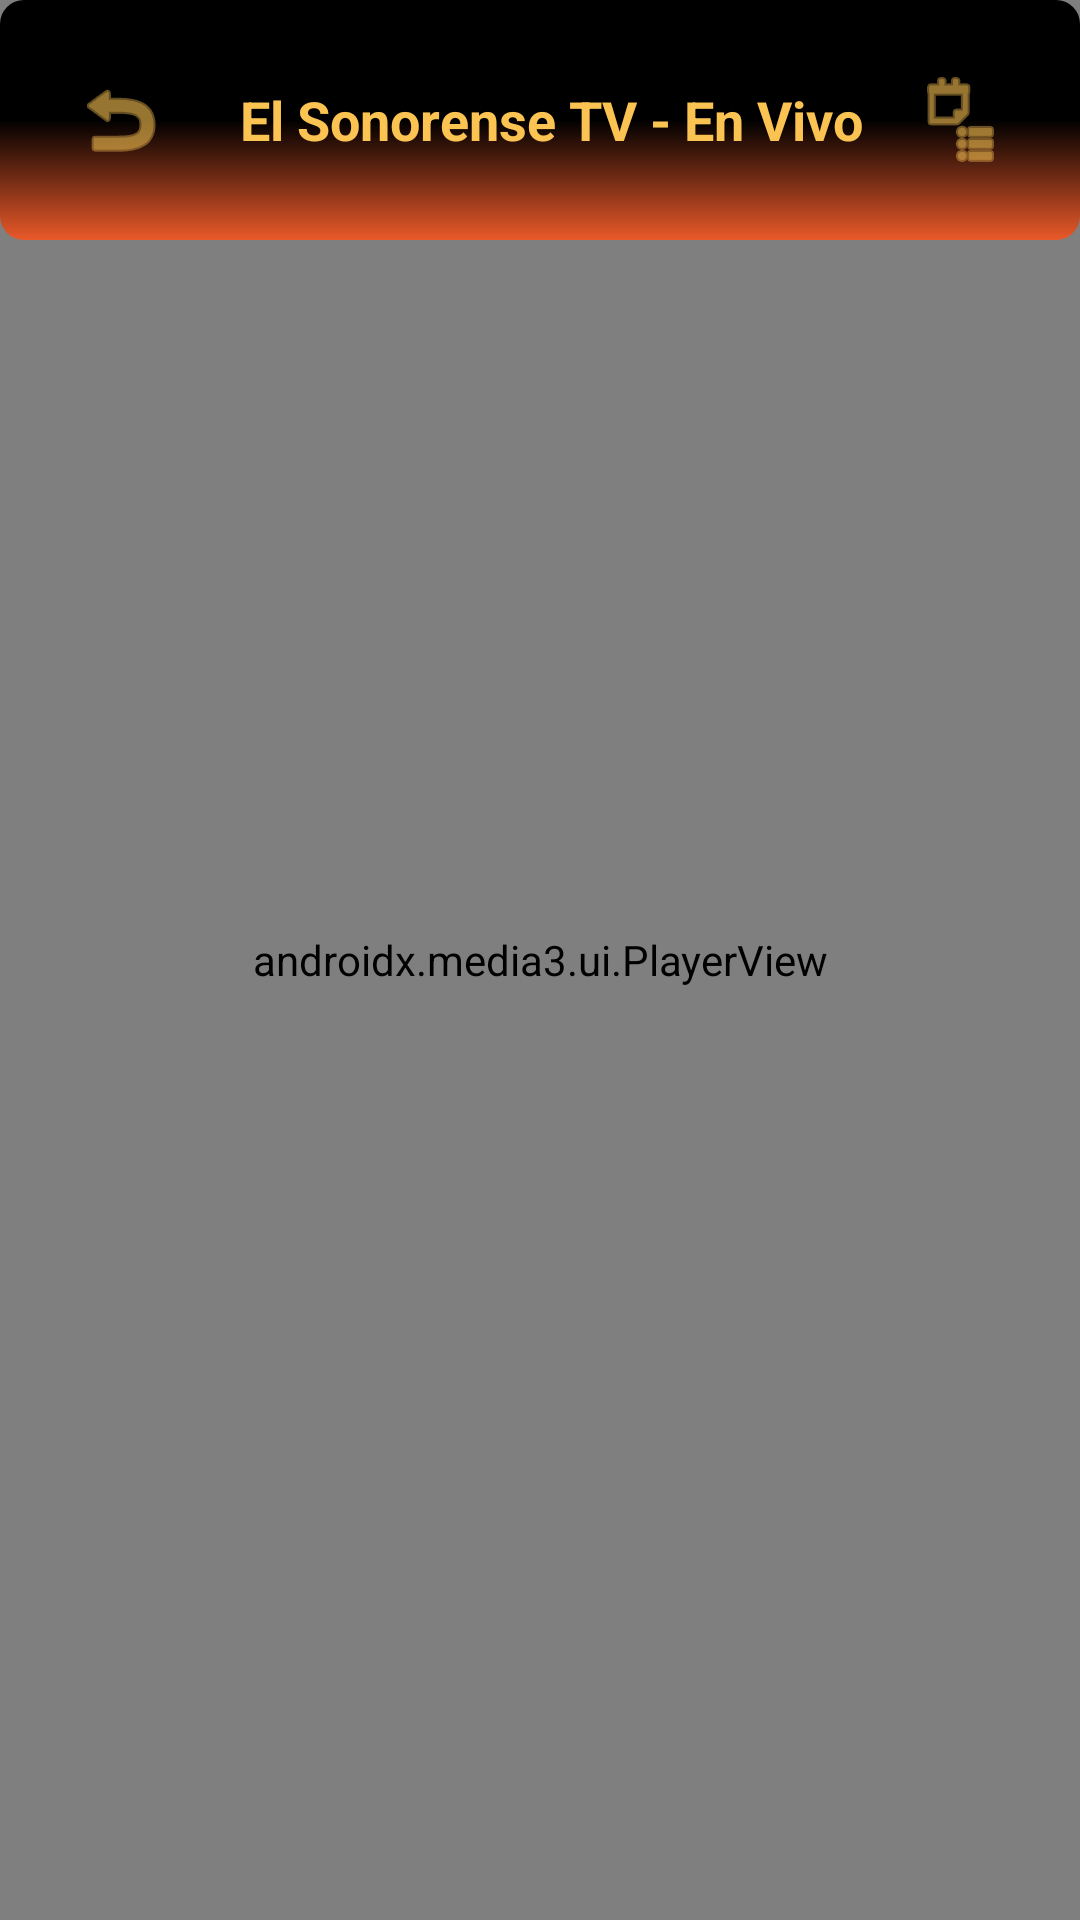

Icons on this 1080 × 1920 Android screen, each with the point to tap as [x,y]:
Regresar: [120,120]
Ver Programación: [960,120]
